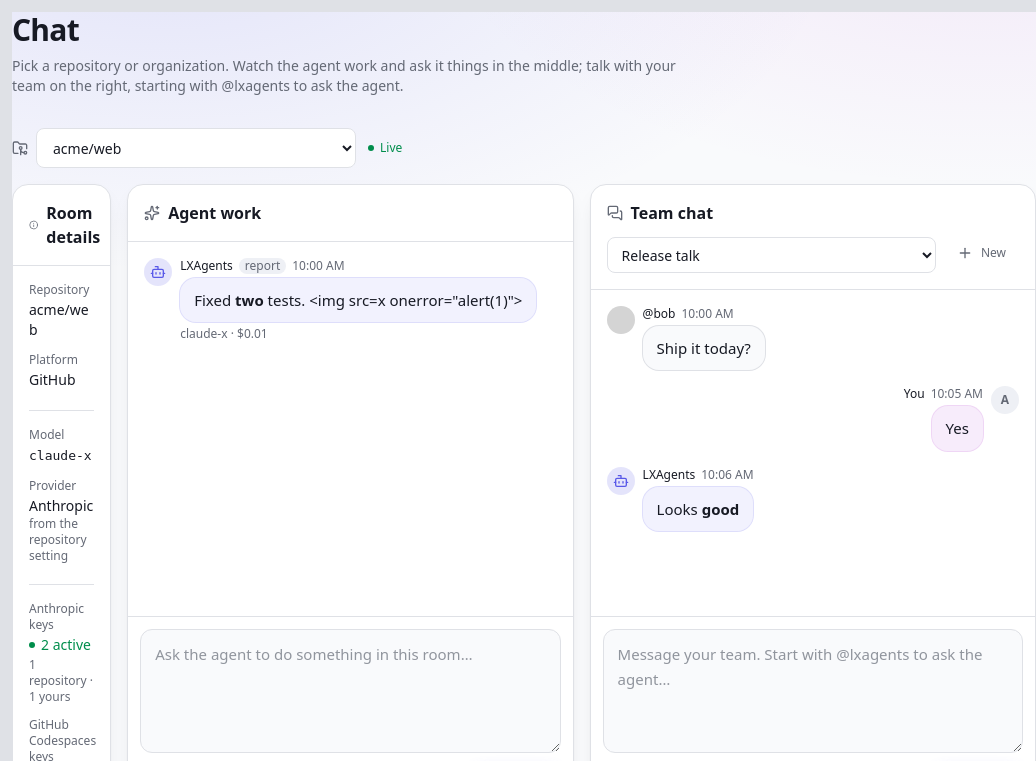
Chat › the team chat shows messages only, tells senders apart and reminds about @lxagents
Expected: the dropdown named "Chat session" shows "Release talk", [607,237,936,273]
Expected: the text "@bob" is shown, [643,306,675,322]
Type "Merging now" into the text box named "Message the room" at (813, 691), box [603,629,1023,753]
Then press Enter
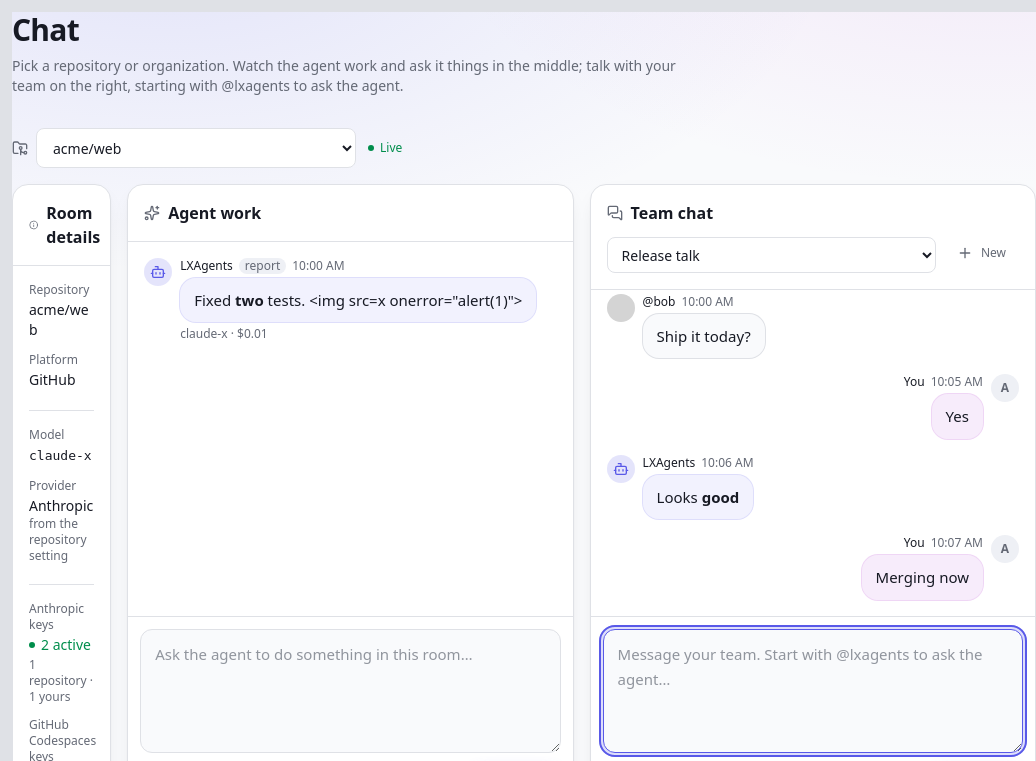
Expected: the text "Merging now" is shown, [876,565,969,590]
